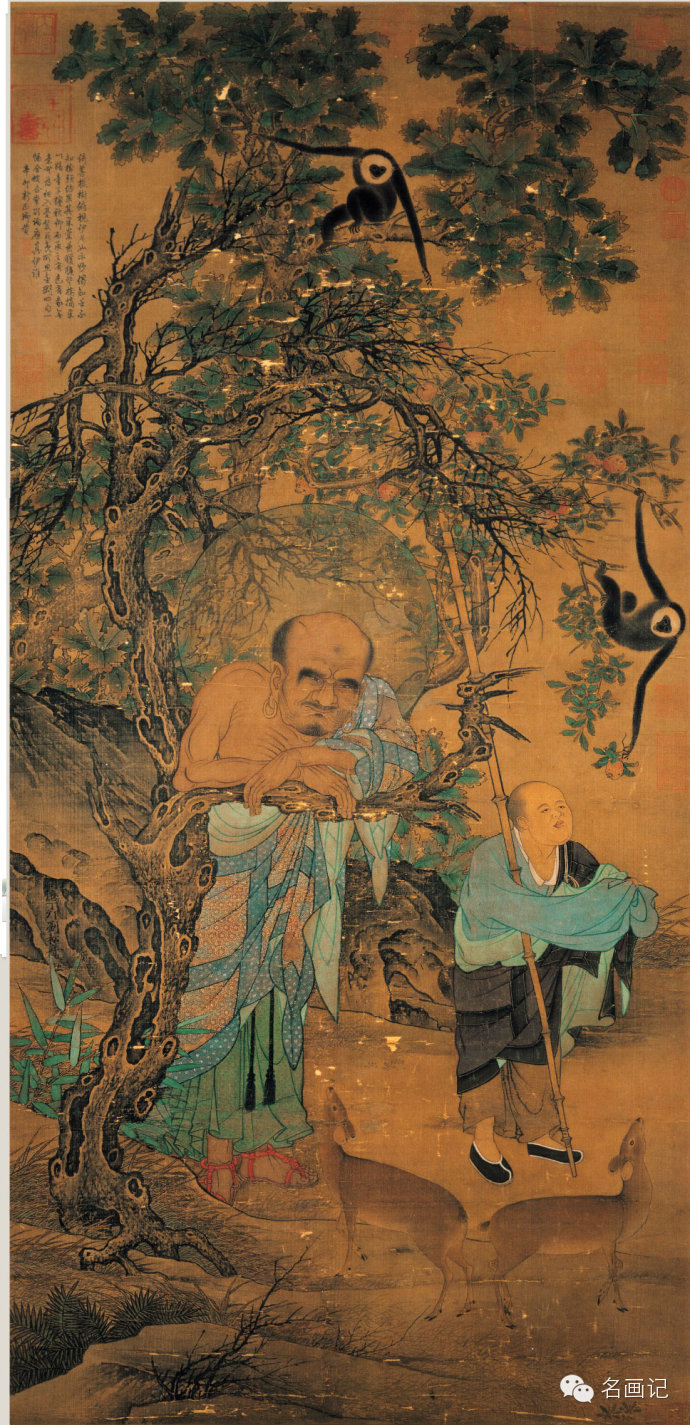deer: (468, 1128, 651, 1354), (311, 1076, 468, 1328)
grass: (14, 1291, 197, 1380)
monk: (126, 505, 445, 1229), (444, 776, 634, 1185)
monkey: (579, 484, 685, 776), (275, 121, 444, 286)
tree: (5, 34, 683, 1269)
